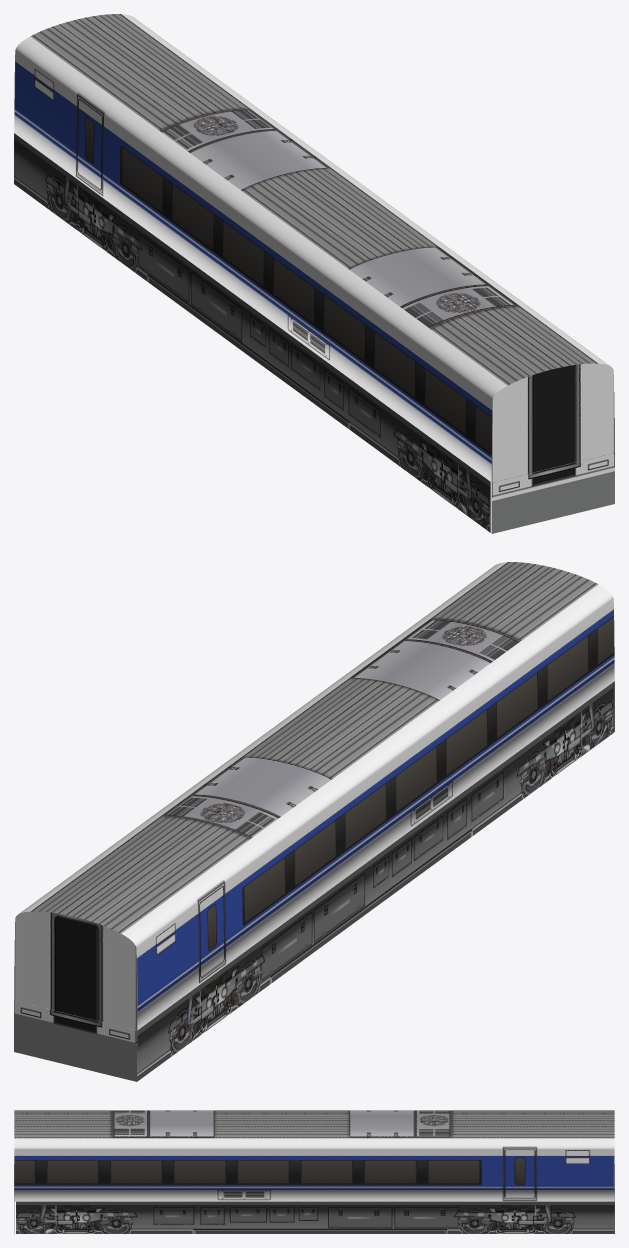
File: car5.glb
The picture shows the model from 3 angles, top to bottom: view 1: azimuth 30°, elevation 25°; view 2: azimuth 150°, elevation 25°; view 3: azimuth 270°, elevation 25°; orthographic projection. The views are drawn at different scales.
Visible parts, largest first — view 1: jr-tokai-371-car5; view 2: jr-tokai-371-car5; view 3: jr-tokai-371-car5.
Part boxes in pixels (<box>): jr-tokai-371-car5: <box>14,14,614,533</box>; jr-tokai-371-car5: <box>14,562,614,1081</box>; jr-tokai-371-car5: <box>14,1110,614,1233</box>.
Size of the model in its own units: 2.9 by 3.37 by 19.53.
Materials: 9 (8 with a texture image).
